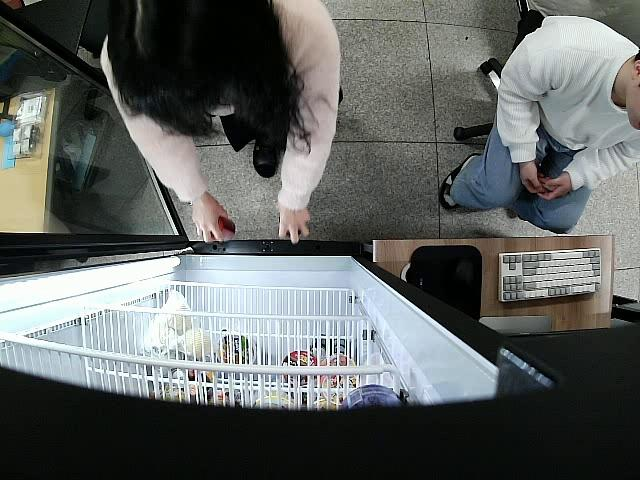00_hand: (192, 200, 233, 245), (278, 207, 311, 245)
11_cocaColaZero: (209, 214, 236, 244)
